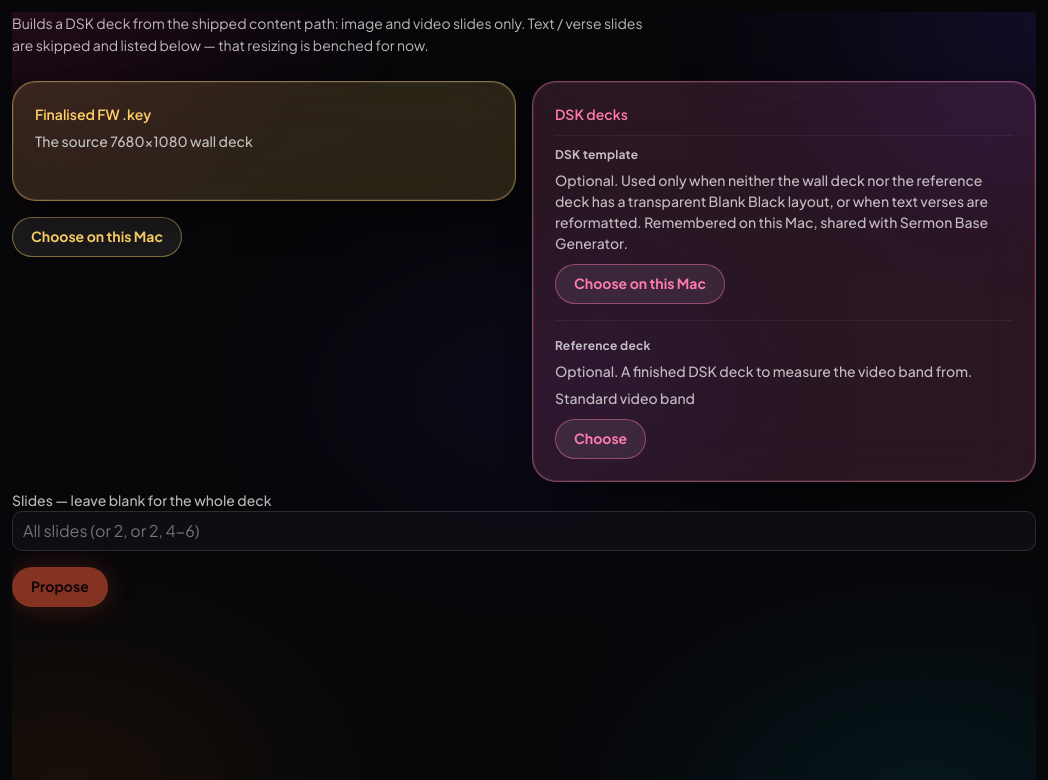
Scenario: DskGenerator template memory › writes a chosen template to settings.json so any browser on this Mac sees it
What coordinates should you click on to do the following:
click the button "Choose on this Mac" below "DSK template"
I would click on:
 (640, 284)
Its box is [555,264,725,304].
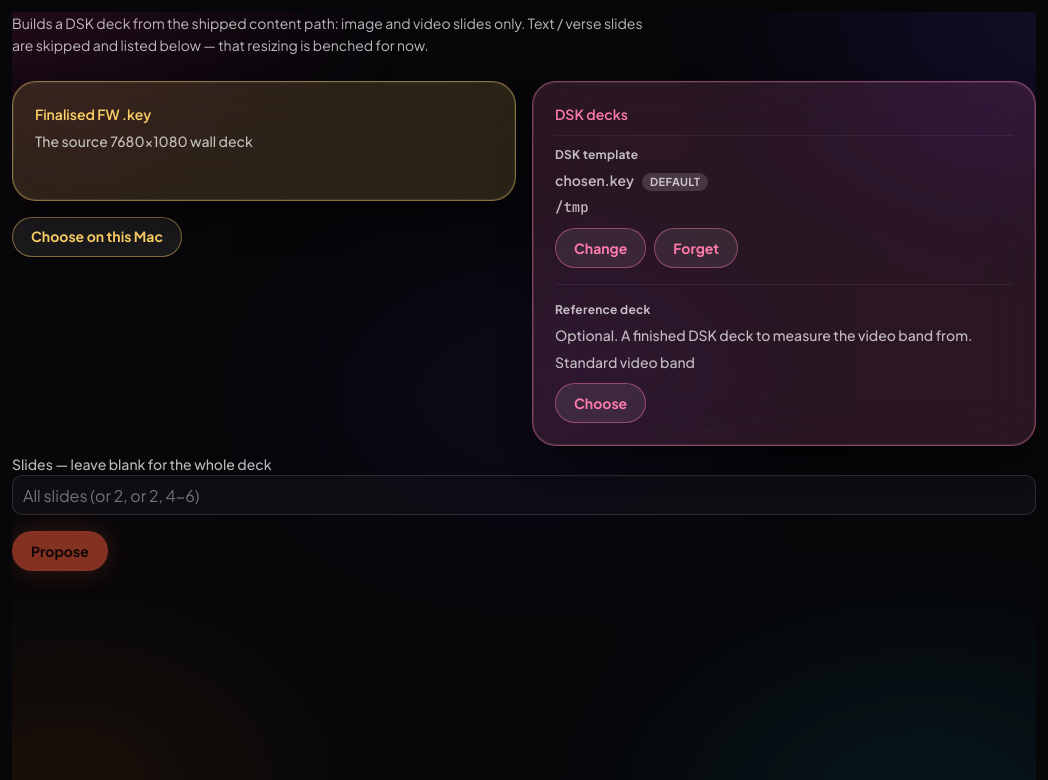
Expected: the text "chosen.key" is shown, [555,171,634,189]
